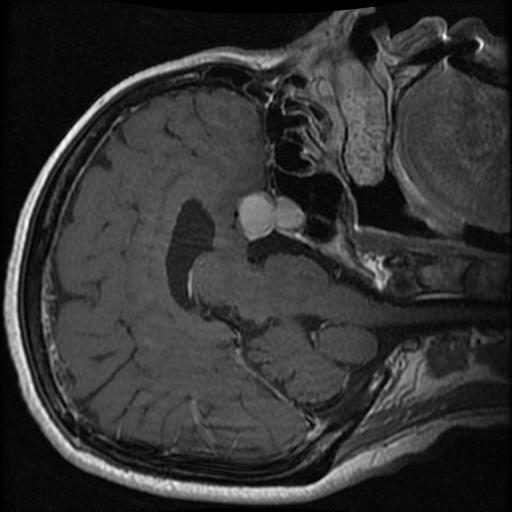pituitary tumour: (238, 192, 304, 238)
